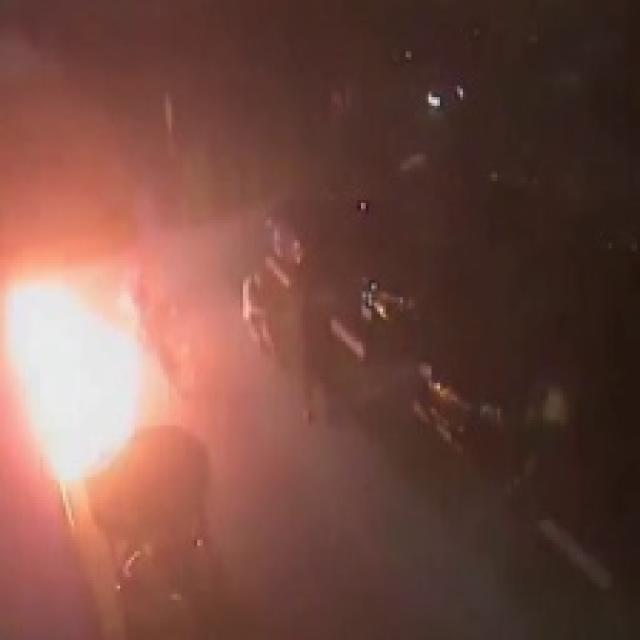fire: (2, 276, 142, 478)
